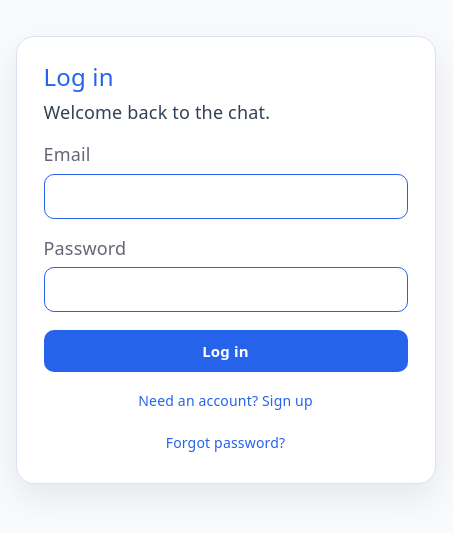
Scenario: LoginScreen › shows a friendly message on invalid credentials (401)
Type "alex@example.com" into the field labelled "Email".
click(226, 196); type("alex@example.com")  # box [44,174,408,219]
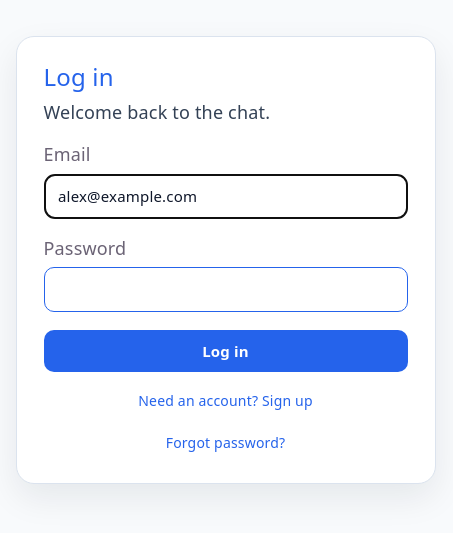
Type "wrong-password" into the password field labelled "Password".
click(226, 290); type("wrong-password")  # box [44,267,408,312]
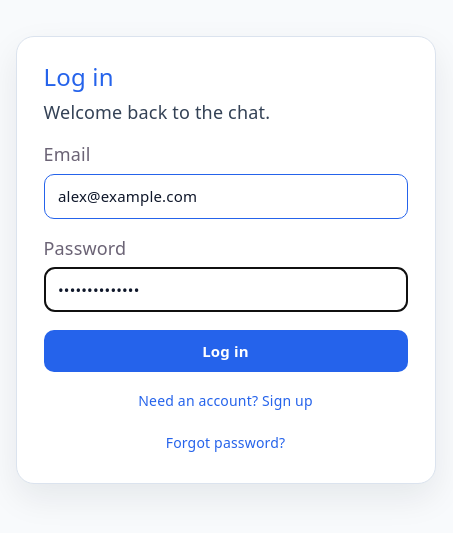
Click the button "Log in".
click(226, 351)  # box [44,330,408,372]
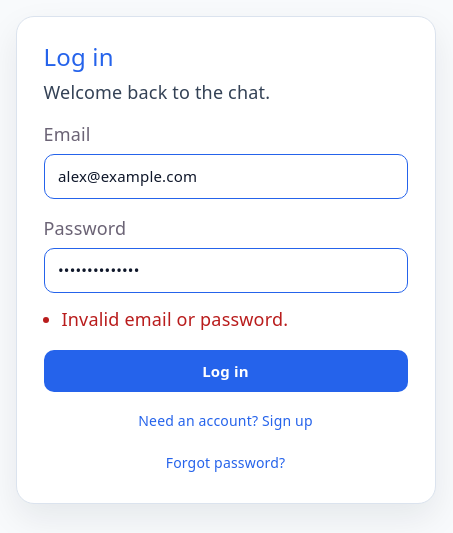
Result: the message reads "Invalid email or password." at [62,307,288,331]
